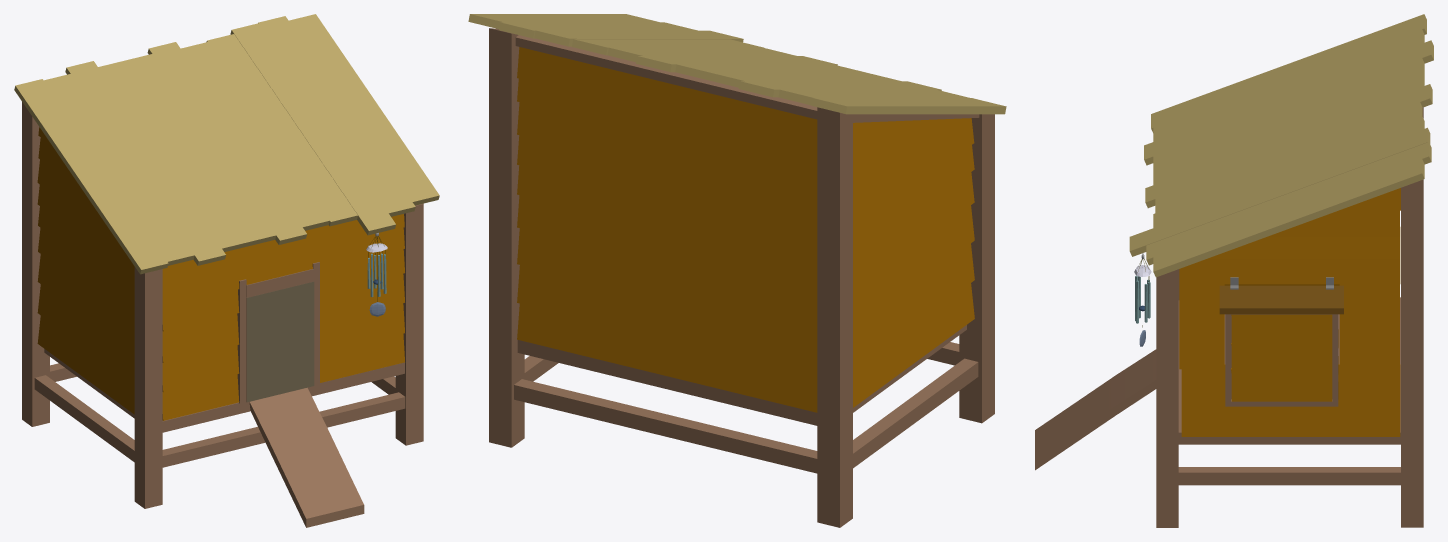
The model's file is Chicken_Coop_02.fbx.
3 renders of one model, left to right at view 1: azimuth 30°, elevation 25°; view 2: azimuth 150°, elevation 25°; view 3: azimuth 270°, elevation 25°, orthographic. The views are drawn at different scales.
Visible parts, largest first — view 1: Chicken_coop2_Combined; view 2: Chicken_coop2_Combined; view 3: Chicken_coop2_Combined.
Part boxes in pixels (bbox=[...]): Chicken_coop2_Combined: bbox=[14, 14, 439, 527]; Chicken_coop2_Combined: bbox=[468, 14, 1006, 527]; Chicken_coop2_Combined: bbox=[1035, 14, 1433, 527].
Bounding box in the file's own units: 604 × 615 × 602.
